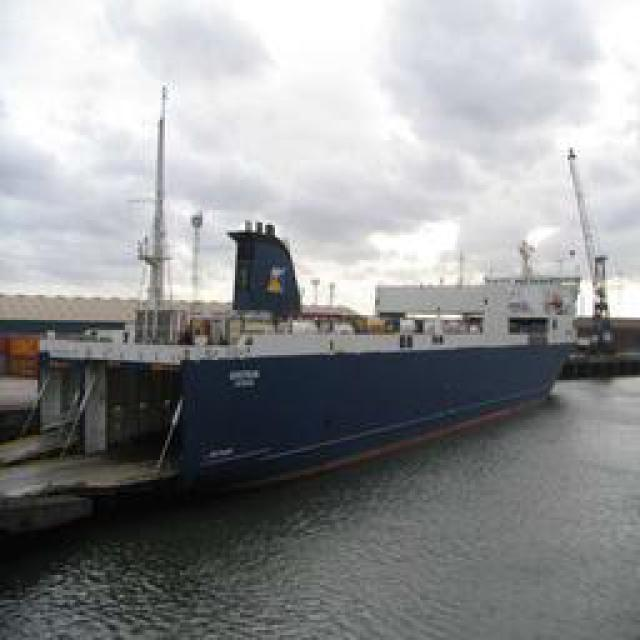Ship: (34, 267, 579, 520)
